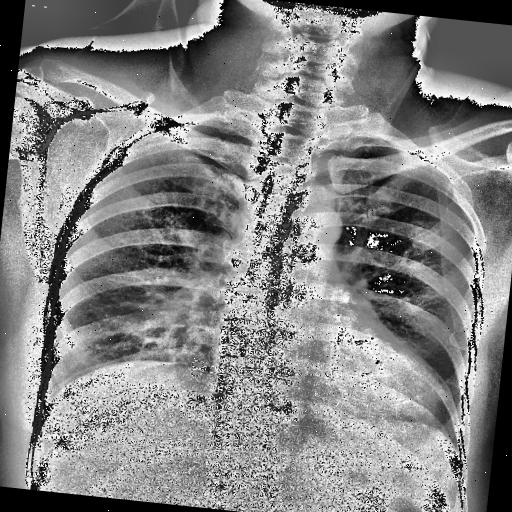0- Aortic enlargement: (274, 200, 346, 254), (295, 202, 344, 246)
3- Cardiomegaly: (202, 323, 442, 428), (204, 326, 448, 426), (226, 324, 440, 418)
